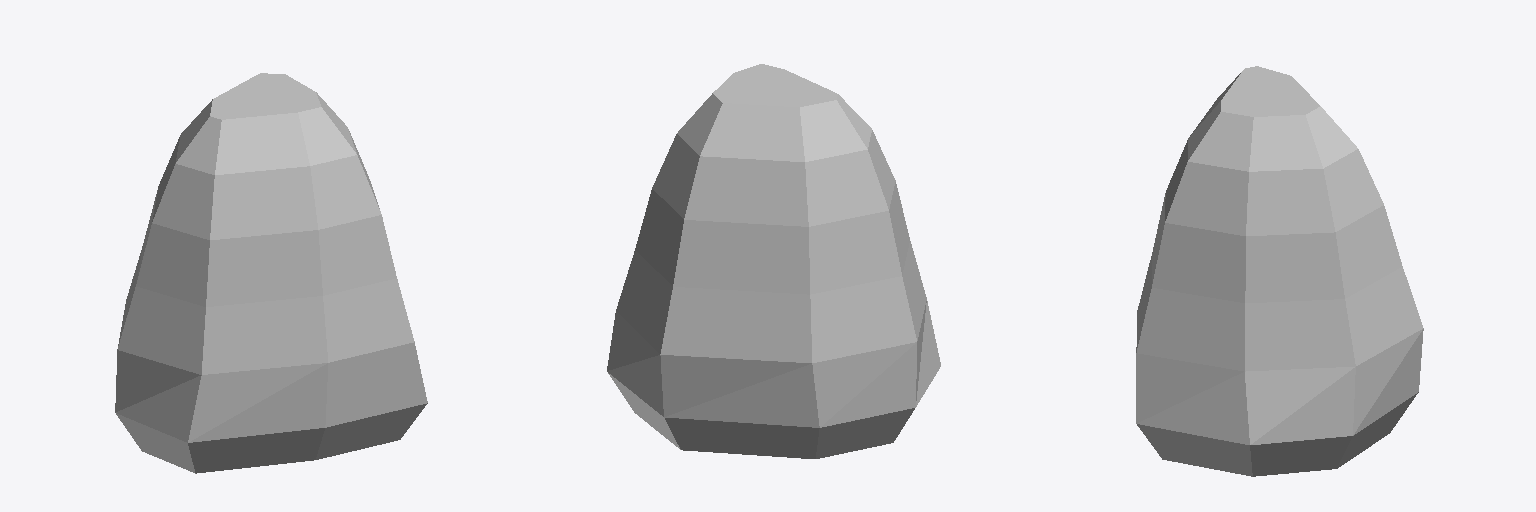
File: rock3.obj
3 views of the same model, side by side, from view 1: azimuth 30°, elevation 25°; view 2: azimuth 150°, elevation 25°; view 3: azimuth 270°, elevation 25° (orthographic).
Parts seen in each view (by area): view 1: polySurface1; view 2: polySurface1; view 3: polySurface1.
Boxes of the visible parts, x1=… form: polySurface1: x1=115, y1=73, x2=427, y2=473; polySurface1: x1=607, y1=64, x2=940, y2=458; polySurface1: x1=1136, y1=66, x2=1423, y2=476.
Size of the model in its own units: 47.31 by 50.71 by 40.79.